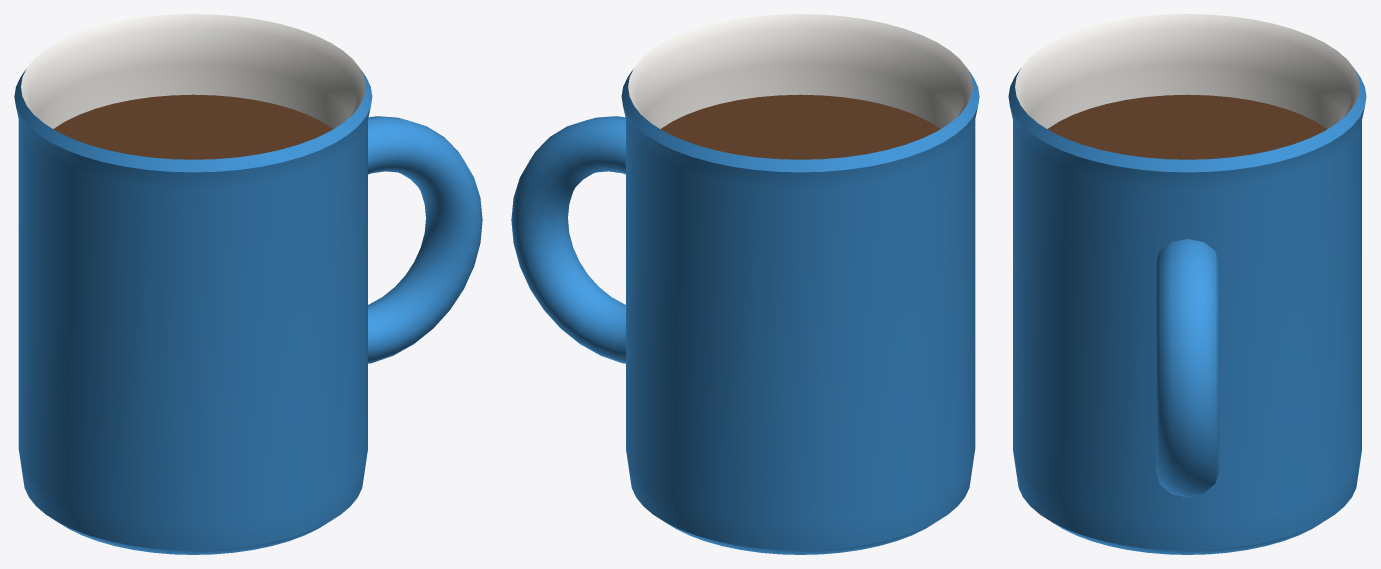
Rendered from mug.glb.
The picture shows the model from 3 angles, left to right: view 1: azimuth 30°, elevation 25°; view 2: azimuth 150°, elevation 25°; view 3: azimuth 270°, elevation 25°; orthographic projection.
Parts seen in each view (by area): view 1: body.001, inner, handle, coffee; view 2: body.001, inner, handle, coffee; view 3: body.001, inner, handle, coffee.
Boxes of the visible parts, <box> form: body.001: <box>14,69,372,554</box>; inner: <box>21,14,365,128</box>; handle: <box>368,116,482,363</box>; coffee: <box>53,94,333,159</box>; body.001: <box>621,69,979,554</box>; inner: <box>628,14,972,128</box>; handle: <box>511,116,625,363</box>; coffee: <box>660,94,940,159</box>; body.001: <box>1008,68,1366,554</box>; inner: <box>1015,14,1359,128</box>; handle: <box>1155,239,1219,497</box>; coffee: <box>1047,94,1327,159</box>.
Size of the model in its own units: 11.62 by 10.15 by 8.2.
